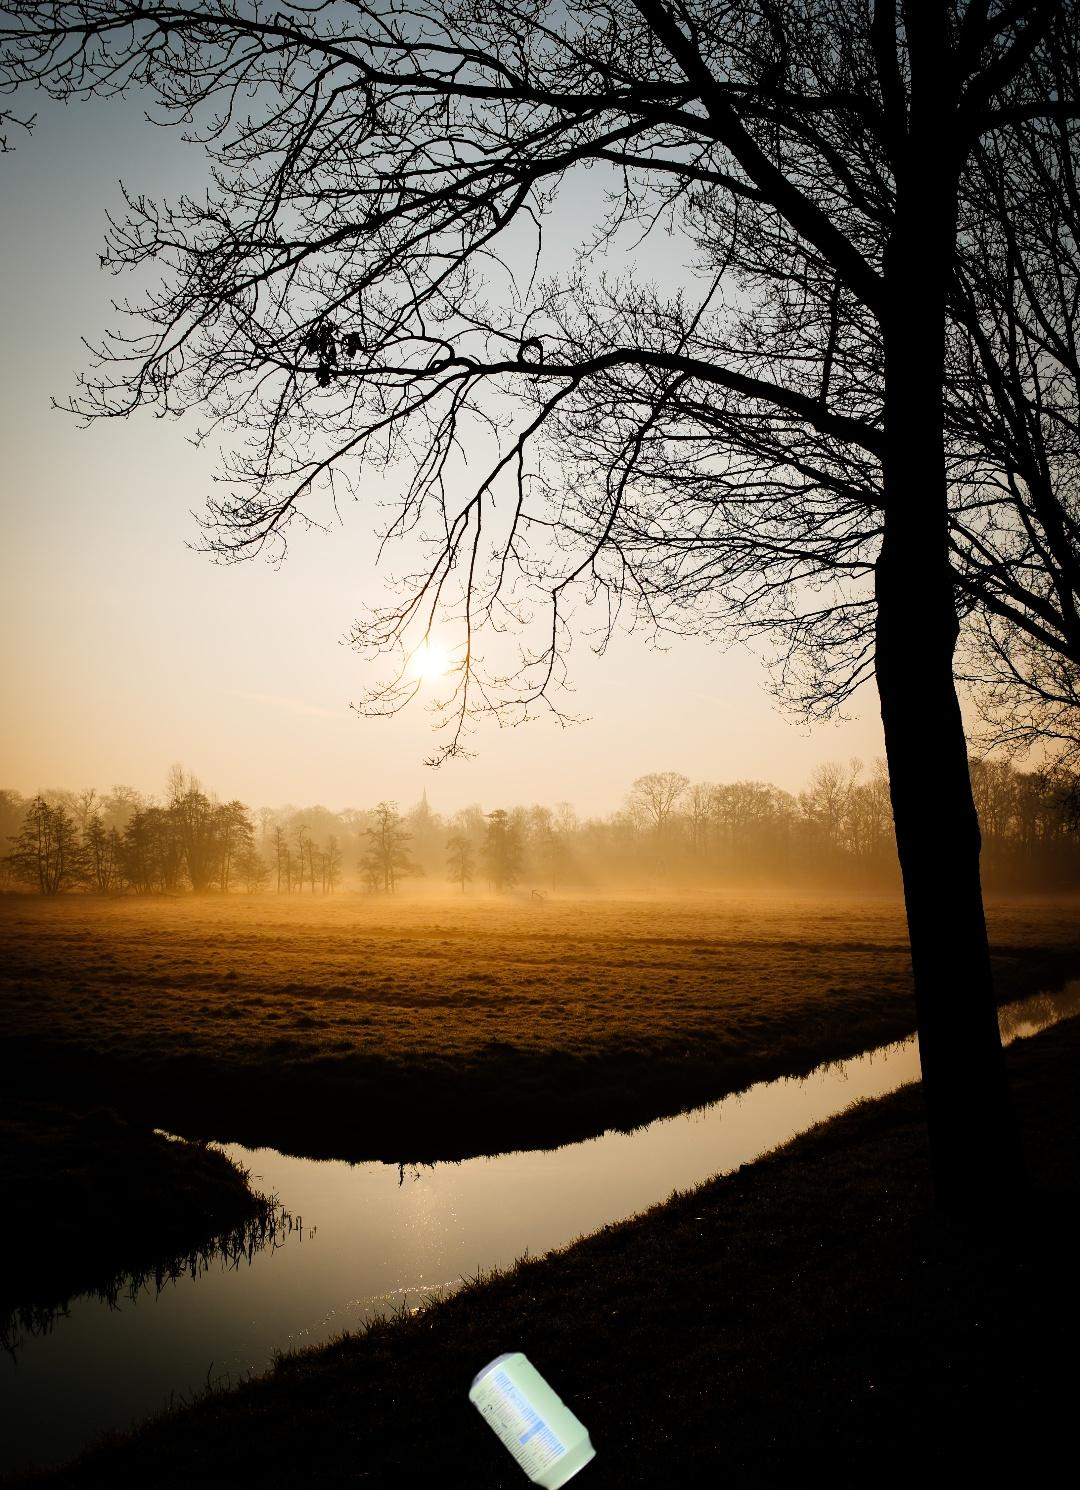metal-cans: (464, 1347, 602, 1490)
